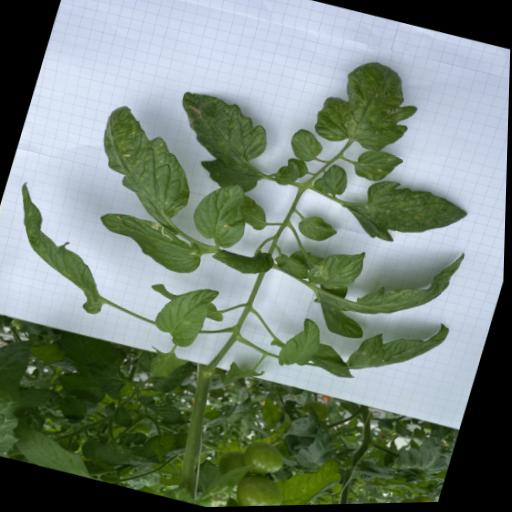Healthy: (0, 178, 132, 317), (9, 419, 114, 483), (277, 313, 327, 374), (209, 239, 278, 281), (57, 367, 111, 406), (56, 393, 92, 423)
Leaf_Miner: (90, 205, 210, 278), (306, 239, 368, 297)
